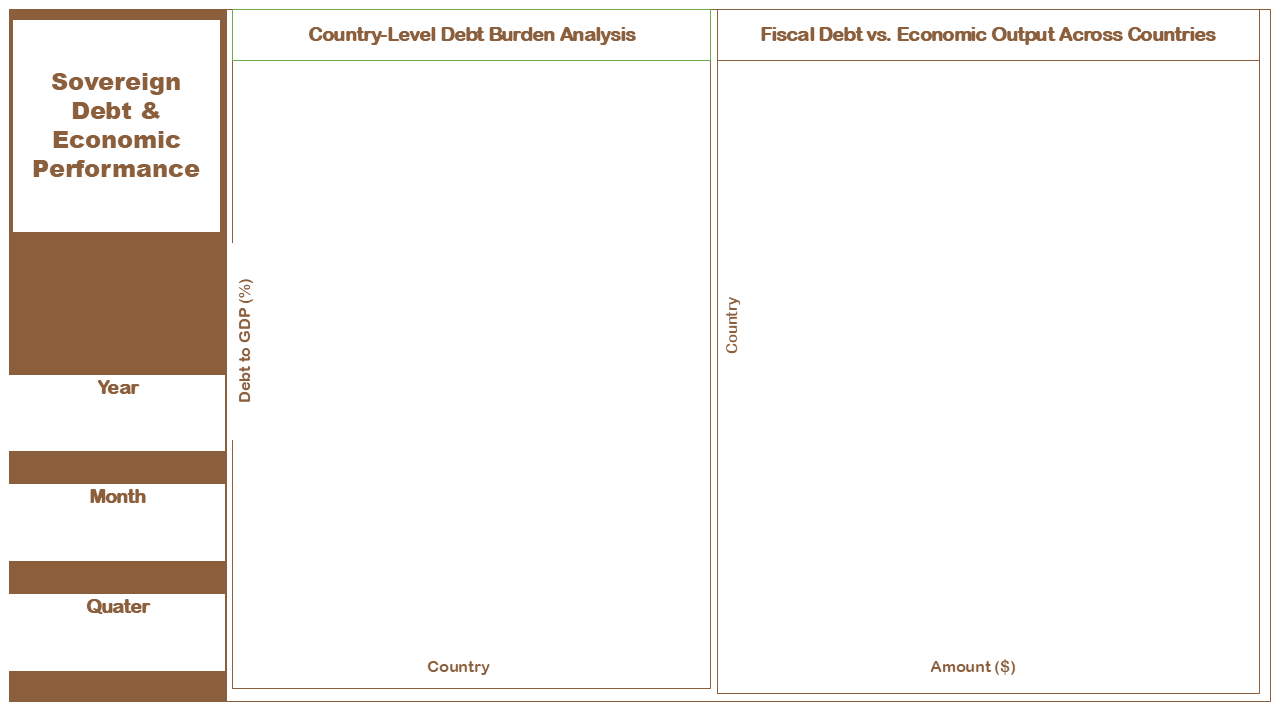

The page's visual inventory and layout, read from the dashboard file:
{"tool":"powerbi","page":{"name":"Page 4","canvas":[1280,720],"ordinal":3},"visuals":[{"type":"clusteredColumnChart","title":"Country-Level Debt Burden Analysis","fields":{"Y":["kpi_1.Debt to GDP %"],"Category":["Dim_Country.Country"]},"box":[258.6,60.2,450.6,587.2],"z":0},{"type":"clusteredBarChart","title":"Fiscal Debt vs. Economic Output Across Countries","fields":{"Category":["Dim_Country.Country"],"Y":["kPI 3.Government Debt USD Billion","kPI 3.Nominal GDP USD Billion"]},"box":[743.3,71.6,522.1,575.8],"z":1000},{"type":"slicer","fields":{"Values":["Calendar.Year"]},"box":[6.5,390.4,218,71.6],"z":2000},{"type":"slicer","fields":{"Values":["Calendar.Month"]},"box":[17.9,497.7,206.6,53.7],"z":3000},{"type":"slicer","fields":{"Values":["Calendar.Quarter"]},"box":[11.4,613.2,206.6,53.7],"z":4000}]}

Visuals, with their boxes in screenshot pixels (x1, y1, x2, y2), scaled from the page's 1280x720 canvas onto the 1280x720 screenshot:
"Country-Level Debt Burden Analysis" clusteredColumnChart: (left=259, top=60, right=709, bottom=647)
"Fiscal Debt vs. Economic Output Across Countries" clusteredBarChart: (left=743, top=72, right=1265, bottom=647)
slicer - Calendar.Year: (left=6, top=390, right=224, bottom=462)
slicer - Calendar.Month: (left=18, top=498, right=224, bottom=551)
slicer - Calendar.Quarter: (left=11, top=613, right=218, bottom=667)
